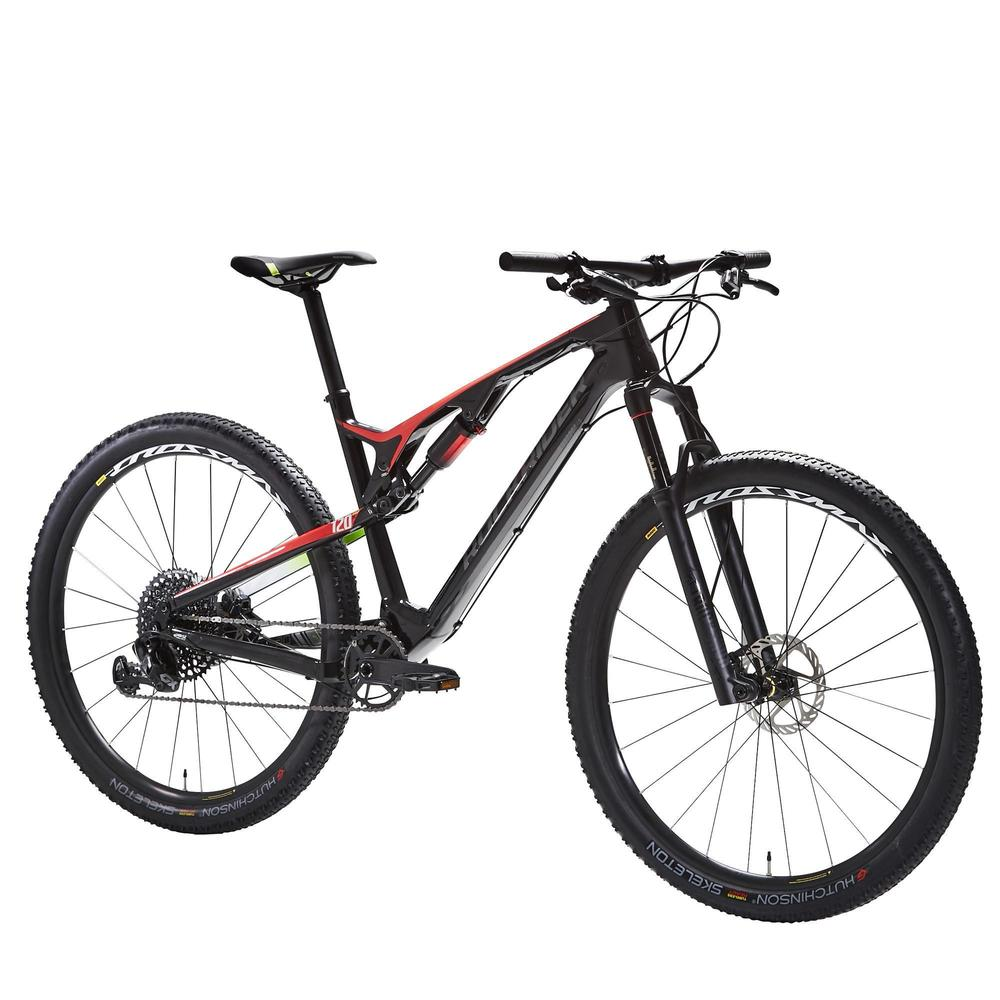MountainBike: (30, 238, 991, 900)
